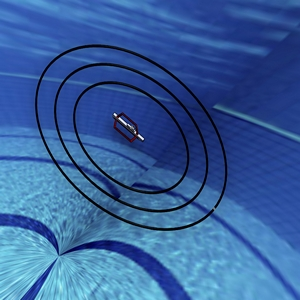circle: (19, 23, 242, 233)
submarine: (110, 105, 149, 151)
